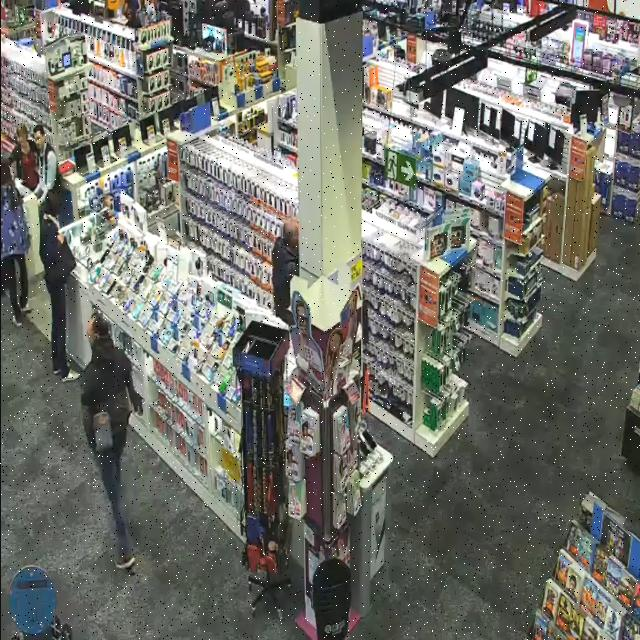bags: (47, 241, 76, 282), (93, 411, 113, 452)
hands: (57, 234, 65, 244)
person: (82, 315, 141, 569), (40, 190, 78, 381), (0, 159, 30, 326), (272, 221, 298, 326), (34, 125, 61, 205), (12, 125, 39, 190)
